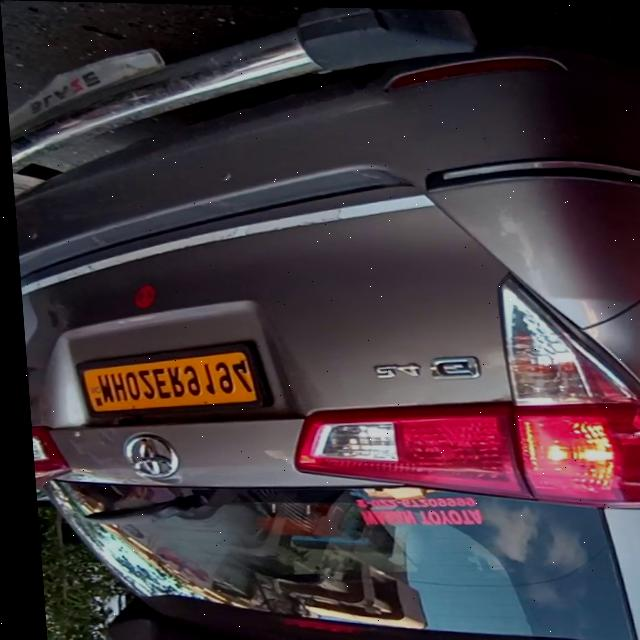plate: (67, 339, 261, 418)
